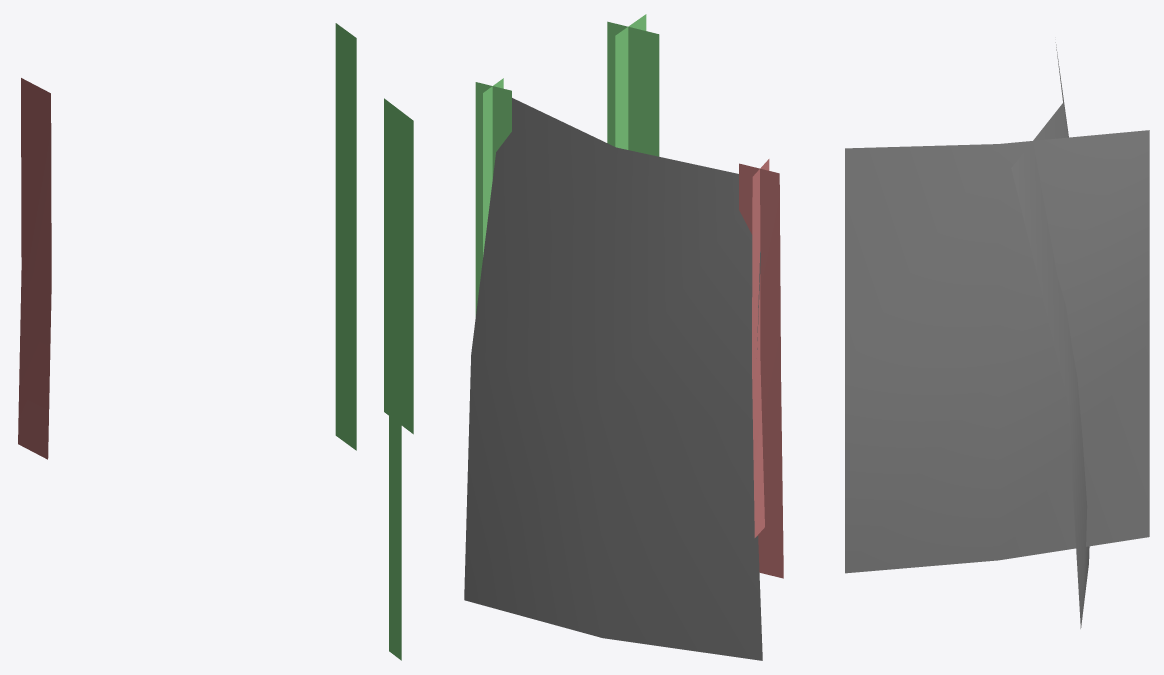
Rendered from Primitive_INDeco000.gltf.
3 views of the same model, side by side, from view 1: azimuth 30°, elevation 25°; view 2: azimuth 150°, elevation 25°; view 3: azimuth 270°, elevation 25° (orthographic). The views are drawn at different scales.
Parts seen in each view (by area): view 1: Primitive_INDeco000; view 2: Primitive_INDeco000; view 3: Primitive_INDeco000.
Boxes of the visible parts, left/top/right/bottom form: Primitive_INDeco000: left=18, top=23, right=413, bottom=660; Primitive_INDeco000: left=464, top=14, right=783, bottom=660; Primitive_INDeco000: left=845, top=42, right=1149, bottom=628.
Bounding box in the file's own units: 1.17 × 1.87 × 1.1.
